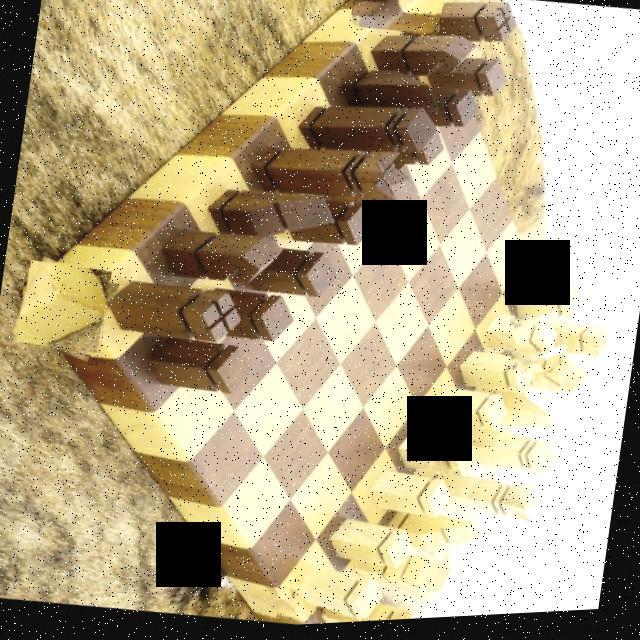chess-table-corners: (14, 256, 117, 363), (508, 309, 572, 382), (350, 0, 446, 42), (275, 599, 362, 629)
